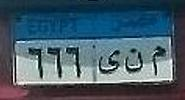6: (64, 44, 83, 79), (26, 44, 44, 80), (46, 42, 63, 80)
meem: (149, 42, 167, 78)
noon: (123, 44, 144, 77)
yaa: (98, 48, 120, 77)
